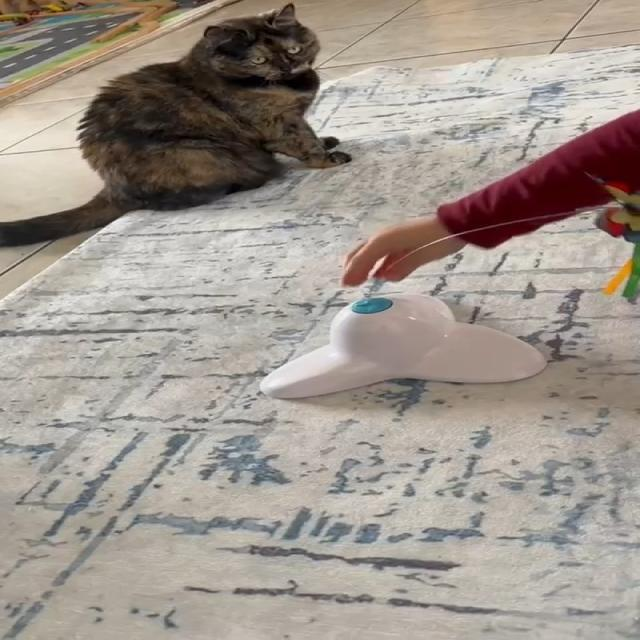authorized: (0, 2, 352, 248)
